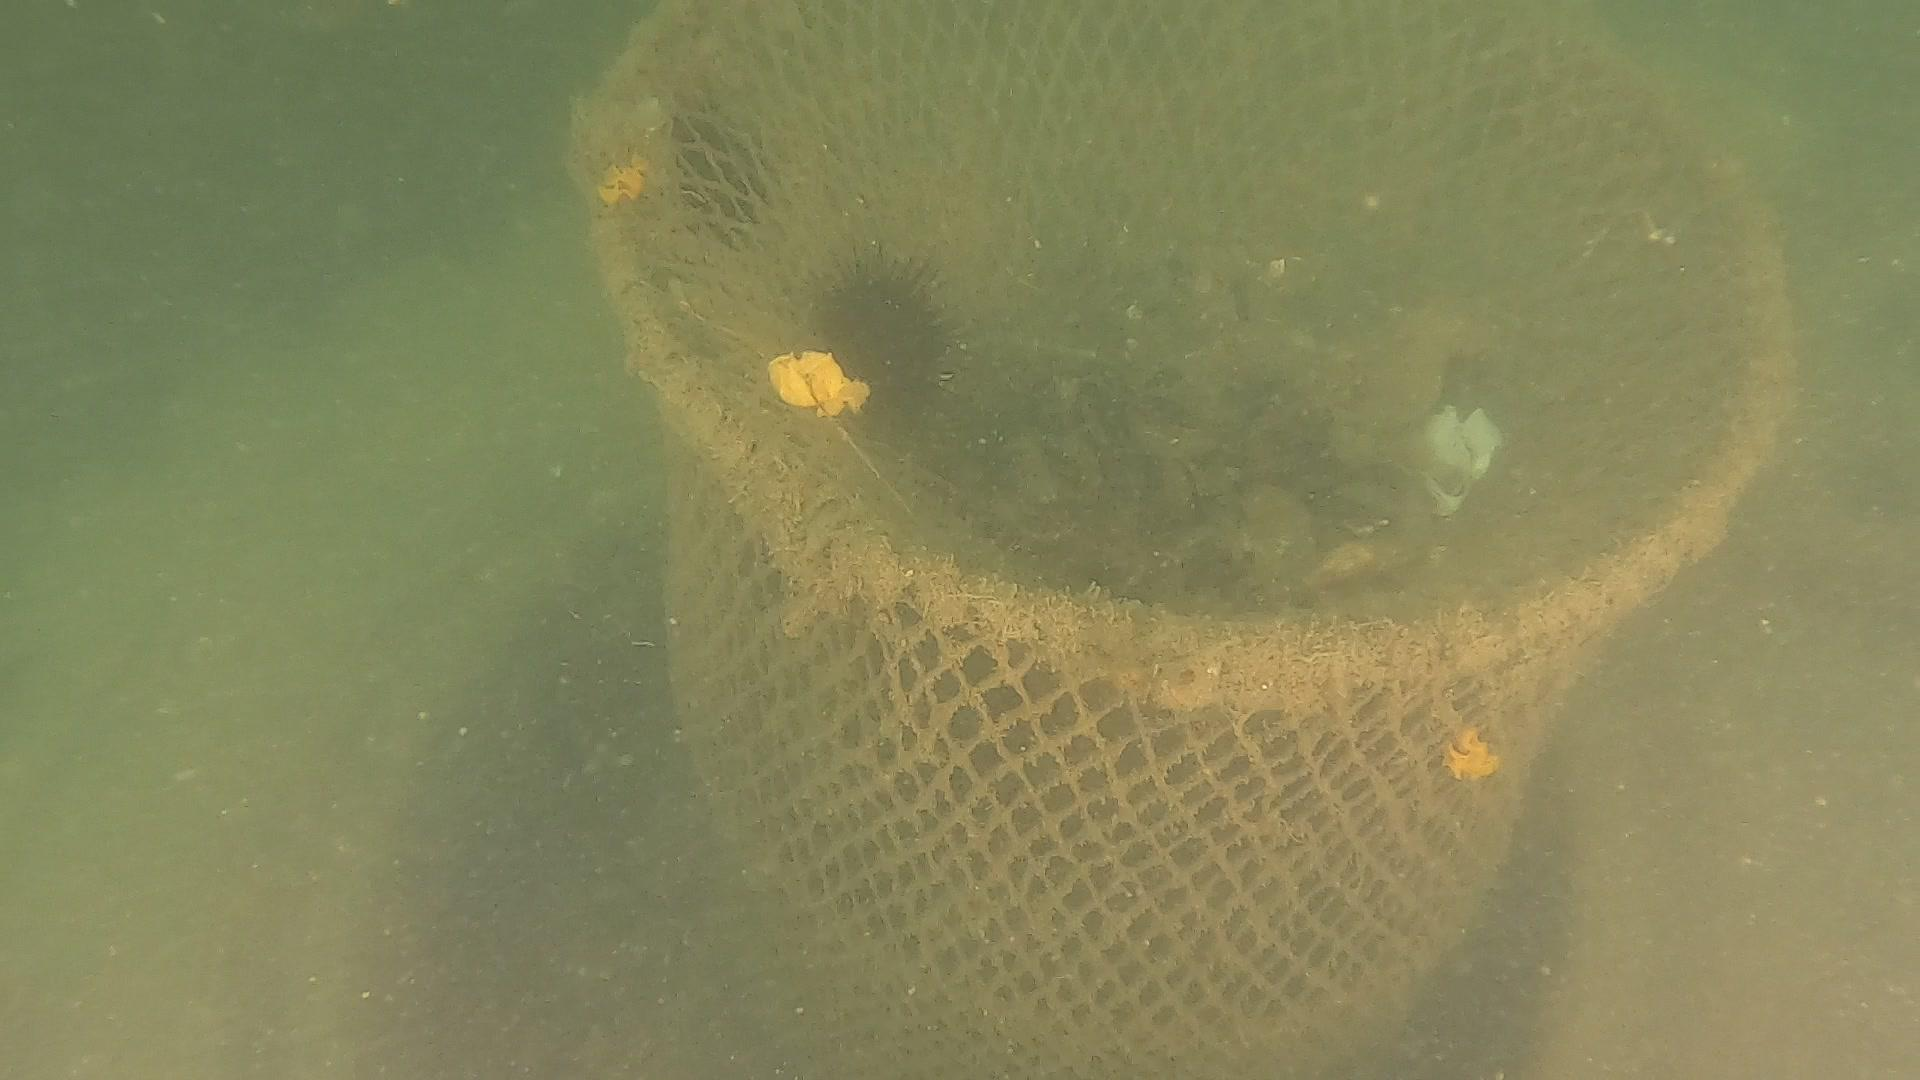spring fish trap: (582, 0, 1791, 1080)
tire: (0, 210, 1920, 1080)
